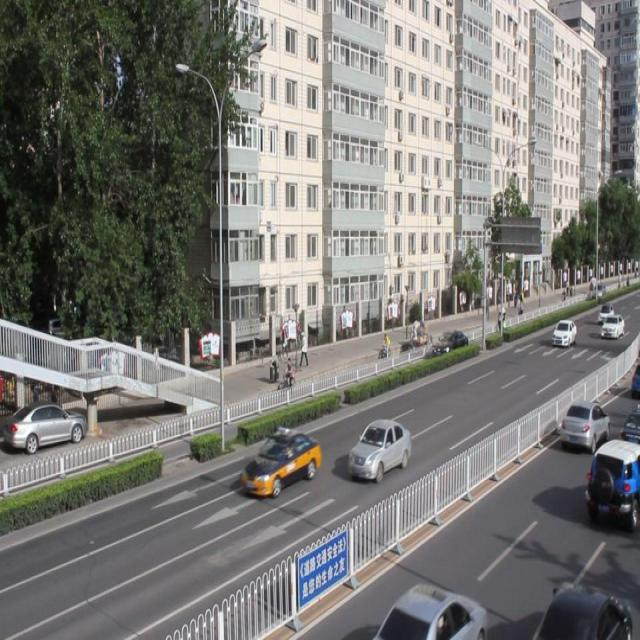car: (371, 580, 485, 640), (530, 578, 630, 640), (239, 427, 320, 495), (584, 437, 640, 527), (348, 417, 411, 480), (560, 398, 609, 450), (618, 408, 640, 456), (432, 327, 467, 357)
